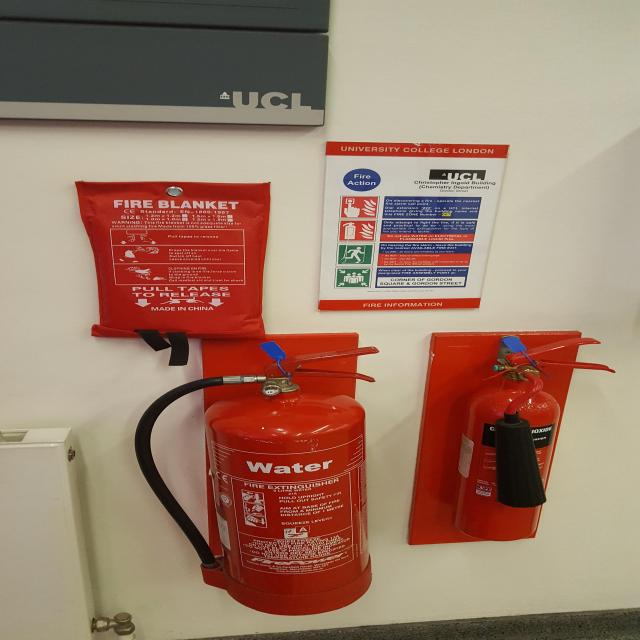fire_extinguisher: (131, 343, 385, 617), (447, 337, 619, 542)
